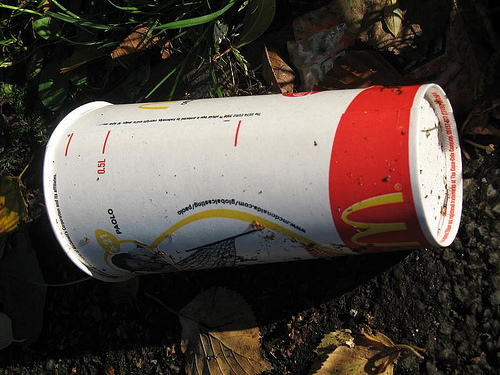litter: (41, 82, 466, 283)
